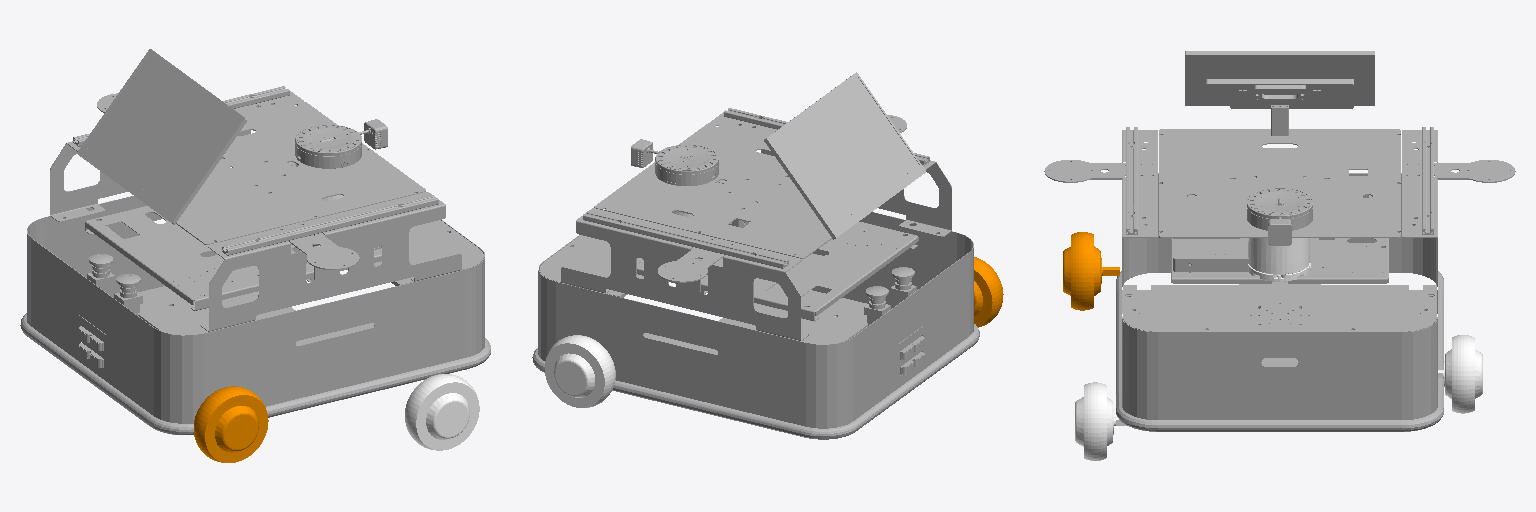
URDF robot description (lucsys_lsr180):
<?xml version="1.0" encoding="utf-8"?>
<robot name="lucsys_lsr180">
  <link name="base_link">
    <inertial>
      <origin xyz="-0.00806331461530618 -0.000932512273646859 0.107549949101176" rpy="0 0 0" />
      <mass value="7.84793817341374" />
      <inertia ixx="0.0916779778829036" ixy="0.000149693096664217" ixz="-0.0011643418131498" iyy="0.0872254564011612" iyz="0.000113985151646456" izz="0.168740806626063" />
    </inertial>
    <visual>
      <origin xyz="0 0 0" rpy="0 0 0" />
      <geometry>
        <mesh filename="package://lucsys_lsr180_description/meshes/lsr180/base_link.STL" />
      </geometry>
      <material name="lucsys_material_0">
        <color rgba="0.752941176470588 0.752941176470588 0.752941176470588 1" />
      </material>
    </visual>
    <collision>
      <origin xyz="0 0 0" rpy="0 0 0" />
      <geometry>
        <mesh filename="package://lucsys_lsr180_description/meshes/lsr180/base_link.STL" />
      </geometry>
    </collision>
  </link>
  <link name="lf_wheel_link">
    <inertial>
      <origin xyz="-5.01173514910747E-08 -0.00170642424946854 5.94733448655571E-07" rpy="0 0 0" />
      <mass value="1.16012121113247" />
      <inertia ixx="0.00602972910268428" ixy="5.47807308579985E-10" ixz="-1.84165299077901E-09" iyy="0.0106298315440435" iyz="-1.4714790165743E-08" izz="0.00603002450897196" />
    </inertial>
    <visual>
      <origin xyz="0 0 0" rpy="0 0 0" />
      <geometry>
        <mesh filename="package://lucsys_lsr180_description/meshes/lsr180/lf_wheel_link.STL" />
      </geometry>
      <material name="lucsys_material_1">
        <color rgba="1 1 1 1" />
      </material>
    </visual>
    <collision>
      <origin xyz="0 0 0" rpy="0 0 0" />
      <geometry>
        <mesh filename="package://lucsys_lsr180_description/meshes/lsr180/lf_wheel_link.STL" />
      </geometry>
    </collision>
  </link>
  <joint name="lf_wheel_joint" type="continuous">
    <origin xyz="0.177199162984322 0.301880000000001 0.041993" rpy="0 0 0" />
    <parent link="base_link" />
    <child link="lf_wheel_link" />
    <axis xyz="0 -1 0" />
  </joint>
  <link name="rf_wheel_link">
    <inertial>
      <origin xyz="5.01173520184306E-08 0.00170642424946899 5.94733447767393E-07" rpy="0 0 0" />
      <mass value="1.16012121113247" />
      <inertia ixx="0.00602972910268411" ixy="5.47807257931509E-10" ixz="1.84165299400066E-09" iyy="0.0106298315440432" iyz="1.47147902330147E-08" izz="0.00603002450897179" />
    </inertial>
    <visual>
      <origin xyz="0 0 0" rpy="0 0 0" />
      <geometry>
        <mesh filename="package://lucsys_lsr180_description/meshes/lsr180/rf_wheel_link.STL" />
      </geometry>
      <material name="lucsys_material_2">
        <color rgba="1 1 1 1" />
      </material>
    </visual>
    <collision>
      <origin xyz="0 0 0" rpy="0 0 0" />
      <geometry>
        <mesh filename="package://lucsys_lsr180_description/meshes/lsr180/rf_wheel_link.STL" />
      </geometry>
    </collision>
  </link>
  <joint name="rf_wheel_joint" type="continuous">
    <origin xyz="0.177199162984322 -0.304479999999999 0.041993" rpy="0 0 0" />
    <parent link="base_link" />
    <child link="rf_wheel_link" />
    <axis xyz="0 -1 0" />
  </joint>
  <link name="lb_wheel_link">
    <inertial>
      <origin xyz="3.3223253037562E-09 -0.000813659203822592 2.37717275031191E-09" rpy="0 0 0" />
      <mass value="1.84890850705851" />
      <inertia ixx="0.00775640915402864" ixy="-1.50914446669823E-10" ixz="-1.81579025133657E-09" iyy="0.014717596649701" iyz="1.8047797953026E-10" izz="0.00775642346336651" />
    </inertial>
    <visual>
      <origin xyz="0 0 0" rpy="0 0 0" />
      <geometry>
        <mesh filename="package://lucsys_lsr180_description/meshes/lsr180/lb_wheel_link.STL" />
      </geometry>
      <material name="lucsys_material_3">
        <color rgba="1 0.6 0 1" />
      </material>
    </visual>
    <collision>
      <origin xyz="0 0 0" rpy="0 0 0" />
      <geometry>
        <mesh filename="package://lucsys_lsr180_description/meshes/lsr180/lb_wheel_link.STL" />
      </geometry>
    </collision>
  </link>
  <joint name="lb_wheel_joint" type="continuous">
    <origin xyz="-0.174800837015678 0.303500000000001 0.037" rpy="0 0 0" />
    <parent link="base_link" />
    <child link="lb_wheel_link" />
    <axis xyz="0 1 0" />
  </joint>
  <link name="rb_wheel_link">
    <inertial>
      <origin xyz="-3.32232544253408E-09 0.000813659203822537 2.37717297235651E-09" rpy="0 0 0" />
      <mass value="1.84890850705852" />
      <inertia ixx="0.00775640915402866" ixy="-1.50914446678396E-10" ixz="1.81579025280261E-09" iyy="0.014717596649701" iyz="-1.80477990000196E-10" izz="0.00775642346336651" />
    </inertial>
    <visual>
      <origin xyz="0 0 0" rpy="0 0 0" />
      <geometry>
        <mesh filename="package://lucsys_lsr180_description/meshes/lsr180/rb_wheel_link.STL" />
      </geometry>
      <material name="lucsys_material_4">
        <color rgba="1 0.6 0 1" />
      </material>
    </visual>
    <collision>
      <origin xyz="0 0 0" rpy="0 0 0" />
      <geometry>
        <mesh filename="package://lucsys_lsr180_description/meshes/lsr180/rb_wheel_link.STL" />
      </geometry>
    </collision>
  </link>
  <joint name="rb_wheel_joint" type="continuous">
    <origin xyz="-0.174800837015678 -0.306099999999999 0.037" rpy="0 0 0" />
    <parent link="base_link" />
    <child link="rb_wheel_link" />
    <axis xyz="0 1 0" />
  </joint>
  <link name="laser_link">
    <inertial>
      <origin xyz="-0.000792227312165439 1.33119285977949E-06 -0.0296756284343189" rpy="0 0 0" />
      <mass value="0.118401562997181" />
      <inertia ixx="0.000132583547440517" ixy="-2.17388444683131E-09" ixz="-1.07082621804755E-06" iyy="0.000135451246710215" iyz="-7.24378366879269E-10" izz="0.000208462359454154" />
    </inertial>
    <visual>
      <origin xyz="0 0 0" rpy="0 0 0" />
      <geometry>
        <mesh filename="package://lucsys_lsr180_description/meshes/lsr180/laser_link.STL" />
      </geometry>
      <material name="lucsys_material_5">
        <color rgba="1 1 1 1" />
      </material>
    </visual>
    <collision>
      <origin xyz="0 0 0" rpy="0 0 0" />
      <geometry>
        <mesh filename="package://lucsys_lsr180_description/meshes/lsr180/laser_link.STL" />
      </geometry>
    </collision>
  </link>
  <joint name="laser_joint" type="fixed">
    <origin xyz="0.132555813230632 -0.00130000000000264 0.2896" rpy="0 0 0" />
    <parent link="base_link" />
    <child link="laser_link" />
    <axis xyz="0 0 0" />
  </joint>
  <link name="mushroom_link">
    <inertial>
      <origin xyz="4.59690452216388E-05 2.45345455899069E-06 -0.00388026698978955" rpy="0 0 0" />
      <mass value="1.34258666131724" />
      <inertia ixx="0.00297304983444156" ixy="2.98782533755192E-10" ixz="1.25114979775122E-06" iyy="0.00297544434431152" iyz="2.72101550102915E-07" izz="0.00503687461206904" />
    </inertial>
    <visual>
      <origin xyz="0 0 0" rpy="0 0 0" />
      <geometry>
        <mesh filename="package://lucsys_lsr180_description/meshes/lsr180/mushroom_link.STL" />
      </geometry>
      <material name="lucsys_material_6">
        <color rgba="0.741176470588235 0.901960784313726 0.956862745098039 1" />
      </material>
    </visual>
    <collision>
      <origin xyz="0 0 0" rpy="0 0 0" />
      <geometry>
        <mesh filename="package://lucsys_lsr180_description/meshes/lsr180/mushroom_link.STL" />
      </geometry>
    </collision>
  </link>
  <joint name="mushroom_joint" type="fixed">
    <origin xyz="-0.0697441867693729 -0.00129999999999782 0.438965569400788" rpy="0 0 0" />
    <parent link="base_link" />
    <child link="mushroom_link" />
    <axis xyz="0 0 0" />
  </joint>
  <link name="camera_link">
    <inertial>
      <origin xyz="-4.27512008016606E-08 -3.48614000455721E-07 1.07624267053907E-07" rpy="0 0 0" />
      <mass value="0.0559842512080703" />
      <inertia ixx="0.000130810959340119" ixy="1.20255127983113E-07" ixz="1.62335437078119E-06" iyy="1.91148634968319E-05" iyz="-2.80016756976065E-08" izz="0.00013138746952398" />
    </inertial>
    <visual>
      <origin xyz="0 0 0" rpy="0 0 0" />
      <geometry>
        <mesh filename="package://lucsys_lsr180_description/meshes/lsr180/camera_link.STL" />
      </geometry>
      <material name="lucsys_material_7">
        <color rgba="1 1 1 1" />
      </material>
    </visual>
    <collision>
      <origin xyz="0 0 0" rpy="0 0 0" />
      <geometry>
        <mesh filename="package://lucsys_lsr180_description/meshes/lsr180/camera_link.STL" />
      </geometry>
    </collision>
  </link>
  <joint name="camera_joint" type="fixed">
    <origin xyz="0.264889162984322 -0.00122199999999866 0.165904" rpy="0 0 0" />
    <parent link="base_link" />
    <child link="camera_link" />
    <axis xyz="0 0 0" />
  </joint>
  <link name="controller_link">
    <inertial>
      <origin xyz="-0.0679487927401328 -0.040009359305549 -0.0511479986209233" rpy="0 0 0" />
      <mass value="22.934674361705" />
      <inertia ixx="1.50219916292921" ixy="-0.00106868590815552" ixz="0.0983436147645965" iyy="1.02843903465553" iyz="-0.000478045144053118" izz="1.67309164597008" />
    </inertial>
    <visual>
      <origin xyz="0 0 0" rpy="0 0 0" />
      <geometry>
        <mesh filename="package://lucsys_lsr180_description/meshes/lsr180/controller_link.STL" />
      </geometry>
      <material name="lucsys_material_8">
        <color rgba="0.741176470588235 0.901960784313726 0.956862745098039 1" />
      </material>
    </visual>
    <collision>
      <origin xyz="0 0 0" rpy="0 0 0" />
      <geometry>
        <mesh filename="package://lucsys_lsr180_description/meshes/lsr180/controller_link.STL" />
      </geometry>
    </collision>
  </link>
  <joint name="controller_joint" type="fixed">
    <origin xyz="0.039014949253069 0.0388354596901158 0.179800002829566" rpy="0 0 0" />
    <parent link="base_link" />
    <child link="controller_link" />
    <axis xyz="0 0 0" />
  </joint>
</robot>

--- Facts derived from the render (not from the file) ---
3 views of the same robot in one strip: view 1: azimuth 30°, elevation 25°; view 2: azimuth 150°, elevation 25°; view 3: azimuth 270°, elevation 25° (orthographic).
Model lucsys_lsr180 with 9 links and 8 joints (4 continuous, 4 fixed), rooted at base_link, posed all joints at 0.
Links seen in each view (by area): view 1: base_link, rf_wheel_link, rb_wheel_link; view 2: base_link, lf_wheel_link, rb_wheel_link; view 3: base_link, rb_wheel_link, rf_wheel_link, lf_wheel_link, laser_link.
Link boxes in pixels (<box>): base_link: <box>20,49,490,434</box>; rf_wheel_link: <box>405,374,479,450</box>; rb_wheel_link: <box>194,386,268,462</box>; base_link: <box>532,72,979,439</box>; lf_wheel_link: <box>545,335,615,407</box>; rb_wheel_link: <box>974,257,1003,327</box>; base_link: <box>1044,51,1515,431</box>; rb_wheel_link: <box>1063,232,1119,310</box>; rf_wheel_link: <box>1075,382,1126,460</box>; lf_wheel_link: <box>1438,335,1482,413</box>; laser_link: <box>1248,238,1310,281</box>.
Bounding box of the posed robot: 0.64 × 0.7764 × 0.6054 m (x, y, z).
5 mesh visuals loaded from 9 distinct referenced files (5 binary STL); not drawn: 4 (reference not matched to a file when rendering).
